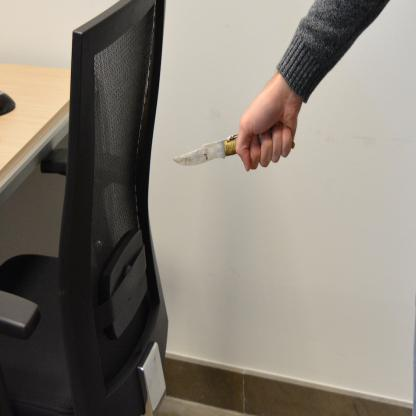knife: (167, 124, 300, 174)
